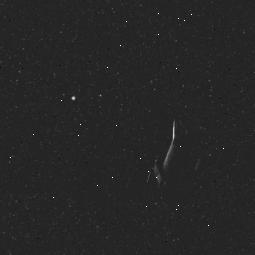xmm_newton: (110, 109, 222, 198)
